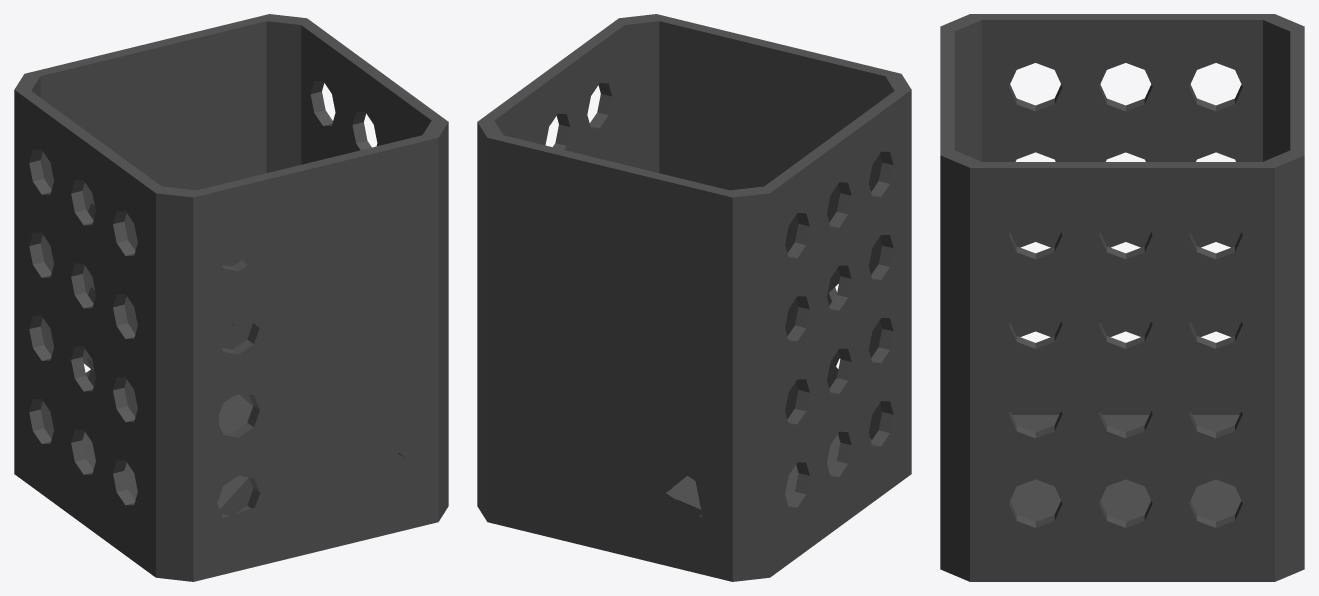
File: Blyantsholder_Grå.fbx
The picture shows the model from 3 angles, left to right: view 1: azimuth 30°, elevation 25°; view 2: azimuth 150°, elevation 25°; view 3: azimuth 270°, elevation 25°; orthographic projection. The views are drawn at different scales.
Parts seen in each view (by area): view 1: Cube; view 2: Cube; view 3: Cube.
Part boxes in pixels (box(x1,y1,x2,y2)): Cube: box(14, 14, 448, 581); Cube: box(477, 14, 911, 581); Cube: box(940, 14, 1304, 581).
Size of the model in its own units: 13.91 by 17.45 by 13.91.
